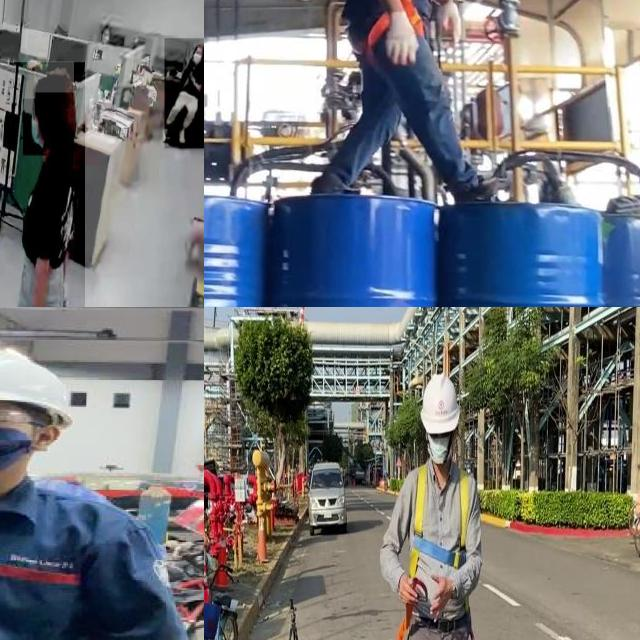Harness: (396, 464, 470, 640), (339, 0, 445, 88), (414, 536, 467, 568)
No_Ear-Protection: (32, 428, 60, 452)
face_mask: (23, 98, 51, 156), (190, 41, 203, 69)
glasses: (0, 409, 44, 438)
head_helmet: (0, 349, 72, 427)
head_nohelmet: (34, 62, 74, 94), (193, 42, 204, 48)
person: (0, 62, 85, 307), (164, 38, 204, 149)
